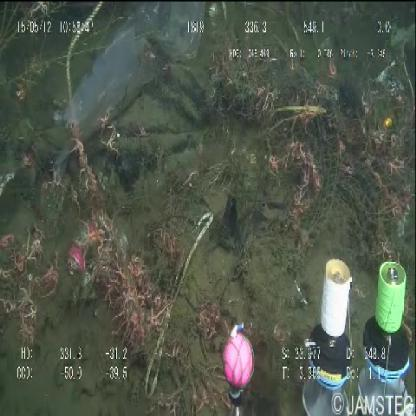Rác: (55, 0, 209, 165), (142, 204, 216, 401)
